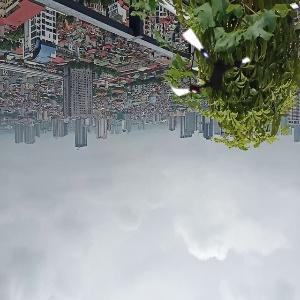drone: (163, 22, 254, 113)
